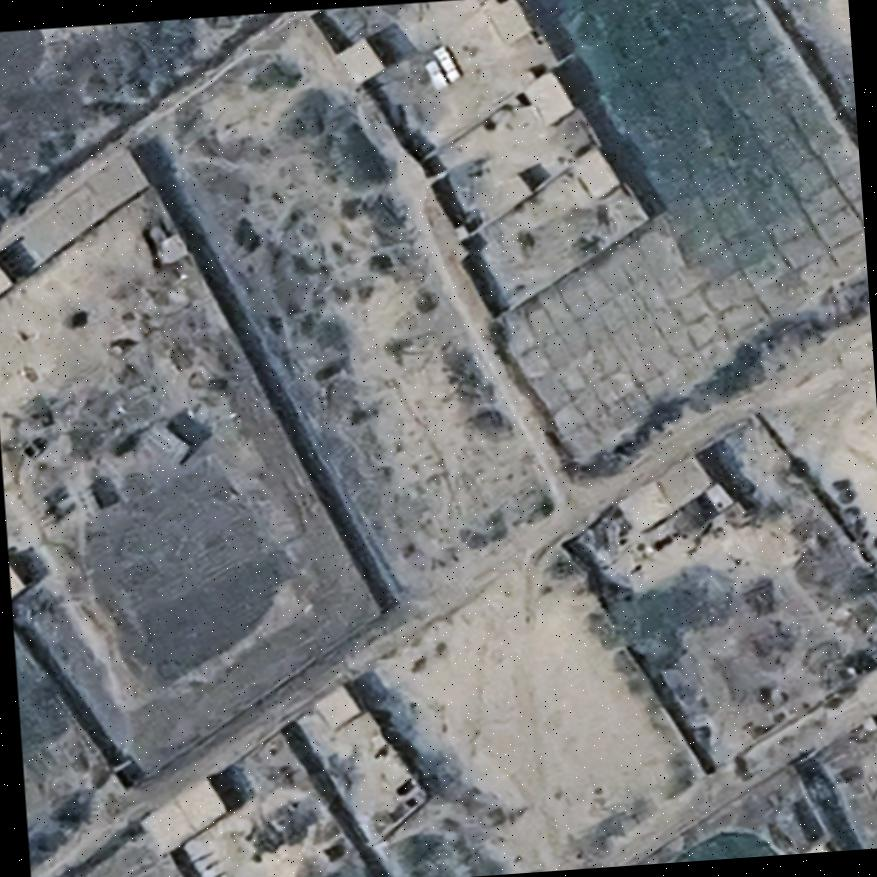Solarpanel: (418, 37, 463, 92)
